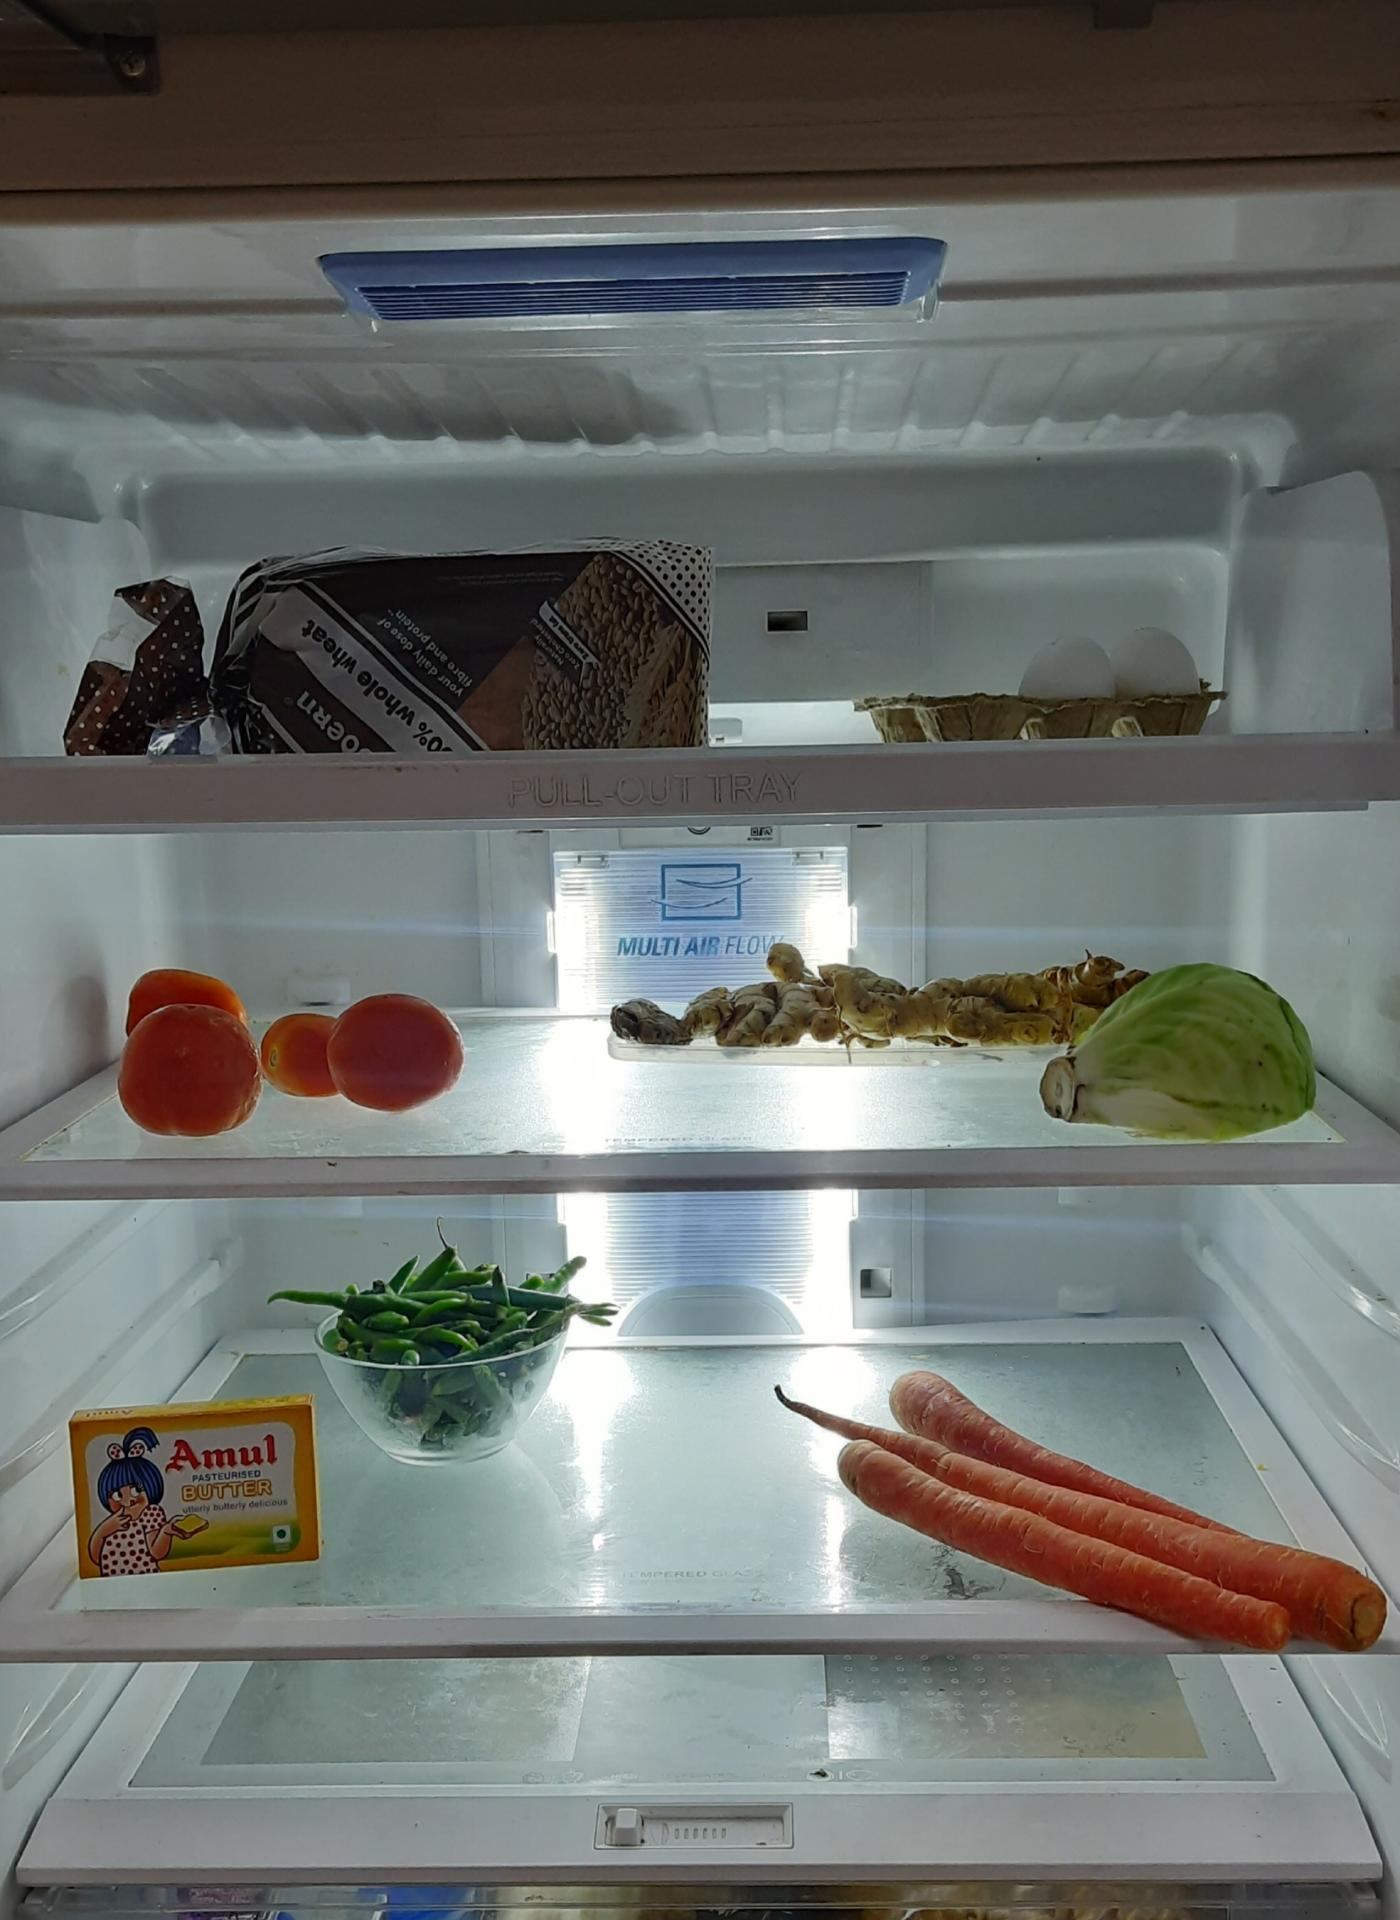bread: (72, 534, 711, 739)
butter: (67, 1395, 324, 1586)
cabbage: (1045, 963, 1324, 1133)
carrots: (817, 1368, 1381, 1659)
chillies: (334, 1248, 584, 1444)
egg: (1023, 622, 1217, 736)
ginger: (622, 927, 1154, 1051)
tomato: (119, 967, 264, 1137), (265, 994, 468, 1112)
